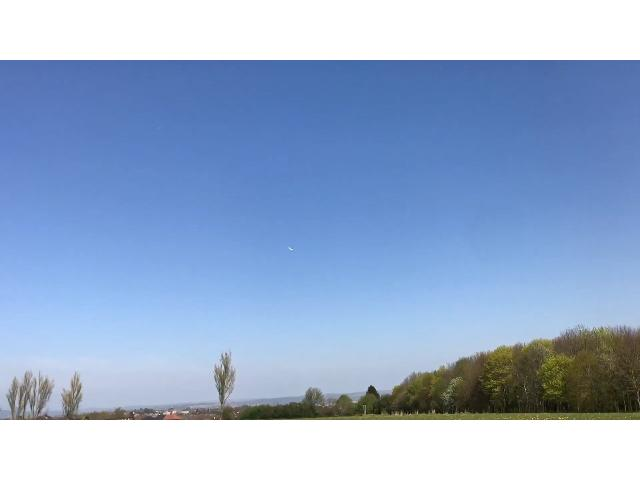Anti-Drone: (285, 242, 297, 254)
